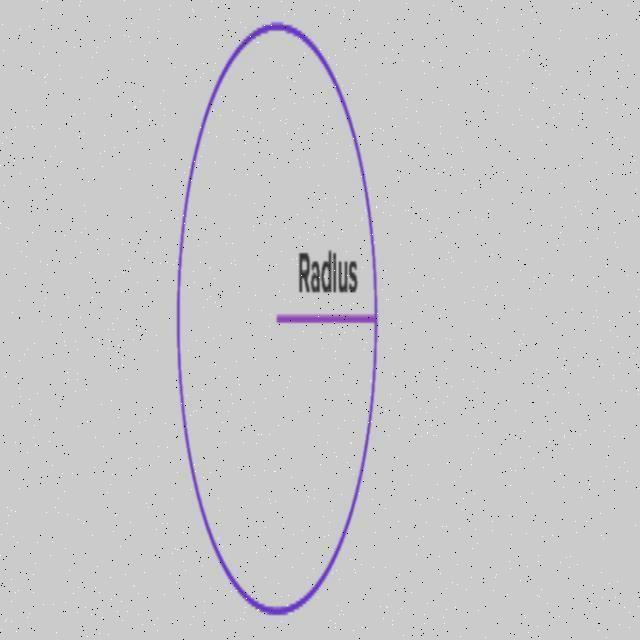Circle: (172, 21, 382, 620)
